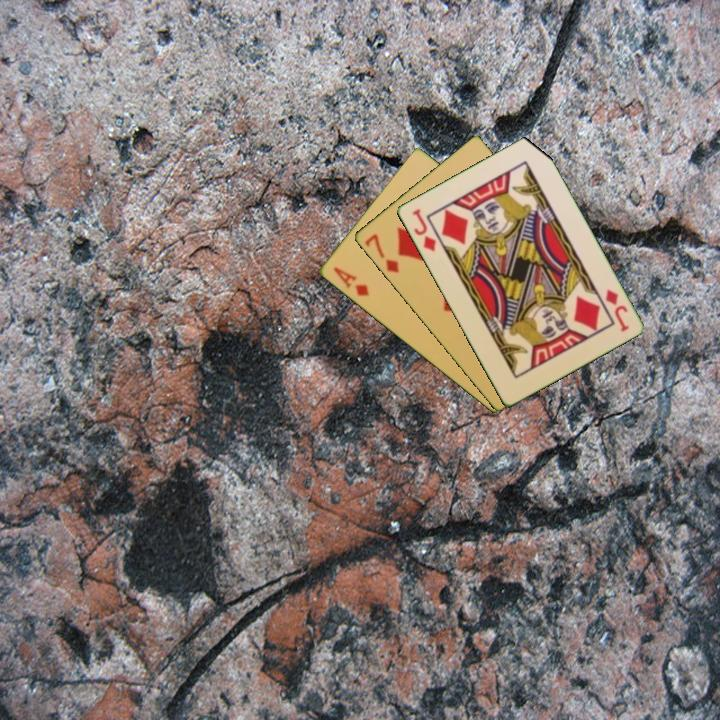7d: (360, 230, 401, 276)
Ad: (329, 263, 372, 299)
Jd: (408, 205, 439, 254), (601, 285, 631, 335)
